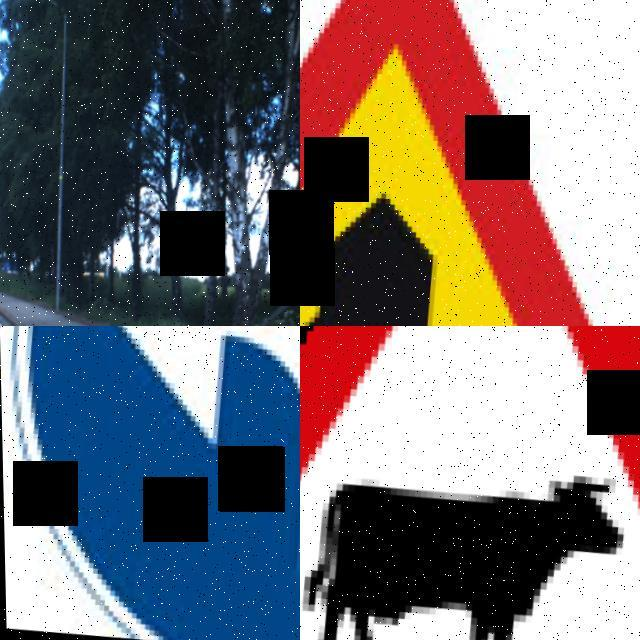166: (300, 0, 640, 326)
94: (0, 326, 300, 640)
Cattle: (300, 326, 640, 640)
